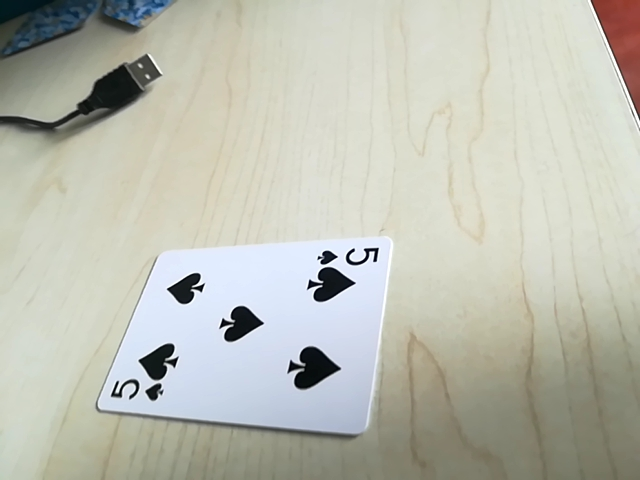ht 5: (103, 373, 169, 409), (315, 242, 381, 272)
